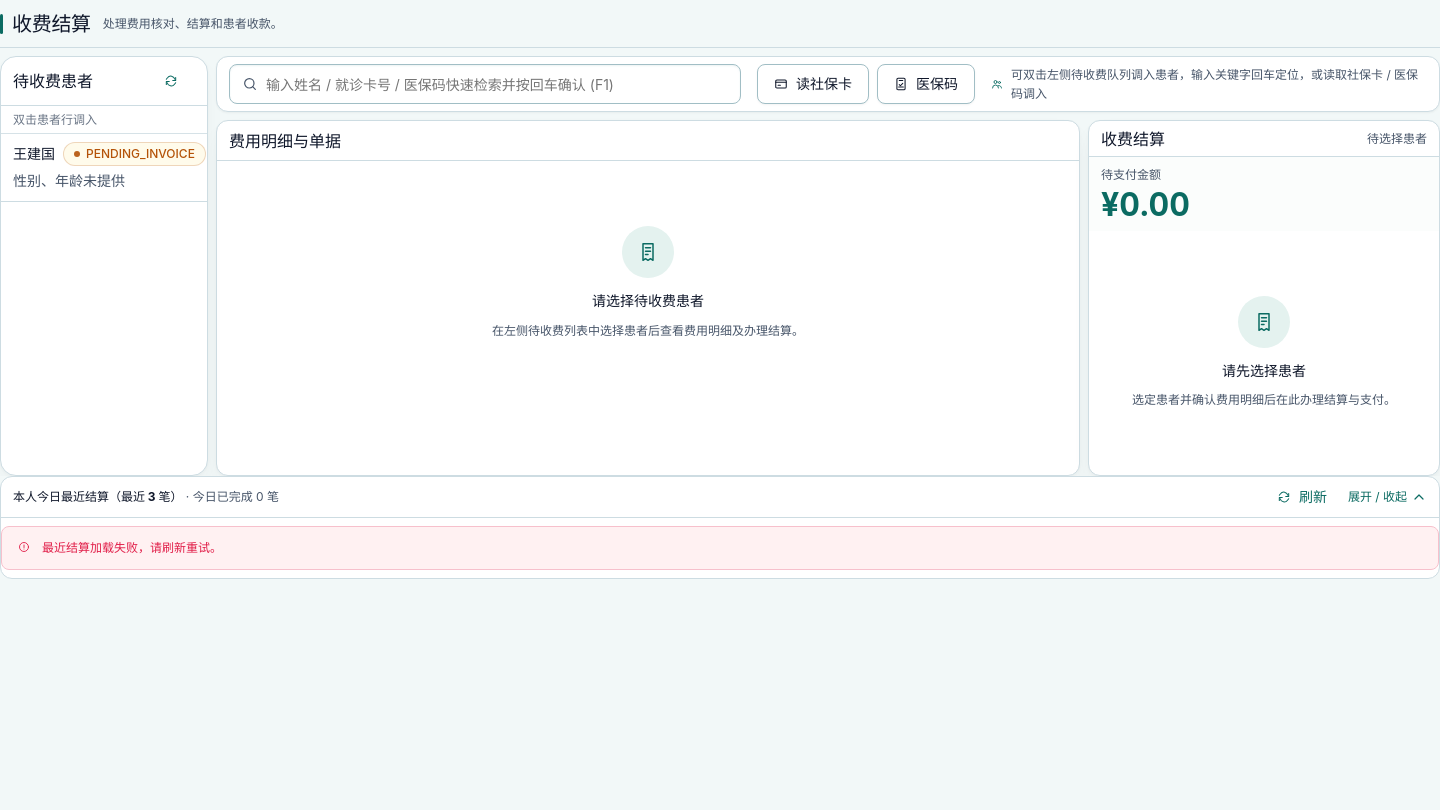
Test case: BillingWorkspace deep link › stops before collecting when pre-insurance relief lowered the amount due
The image size is (1440, 810).
Double-click the button "王建国 PENDING_INVOICE 性别、年龄未提供" at {"x": 104, "y": 168}, box left=1, top=134, right=207, bottom=202
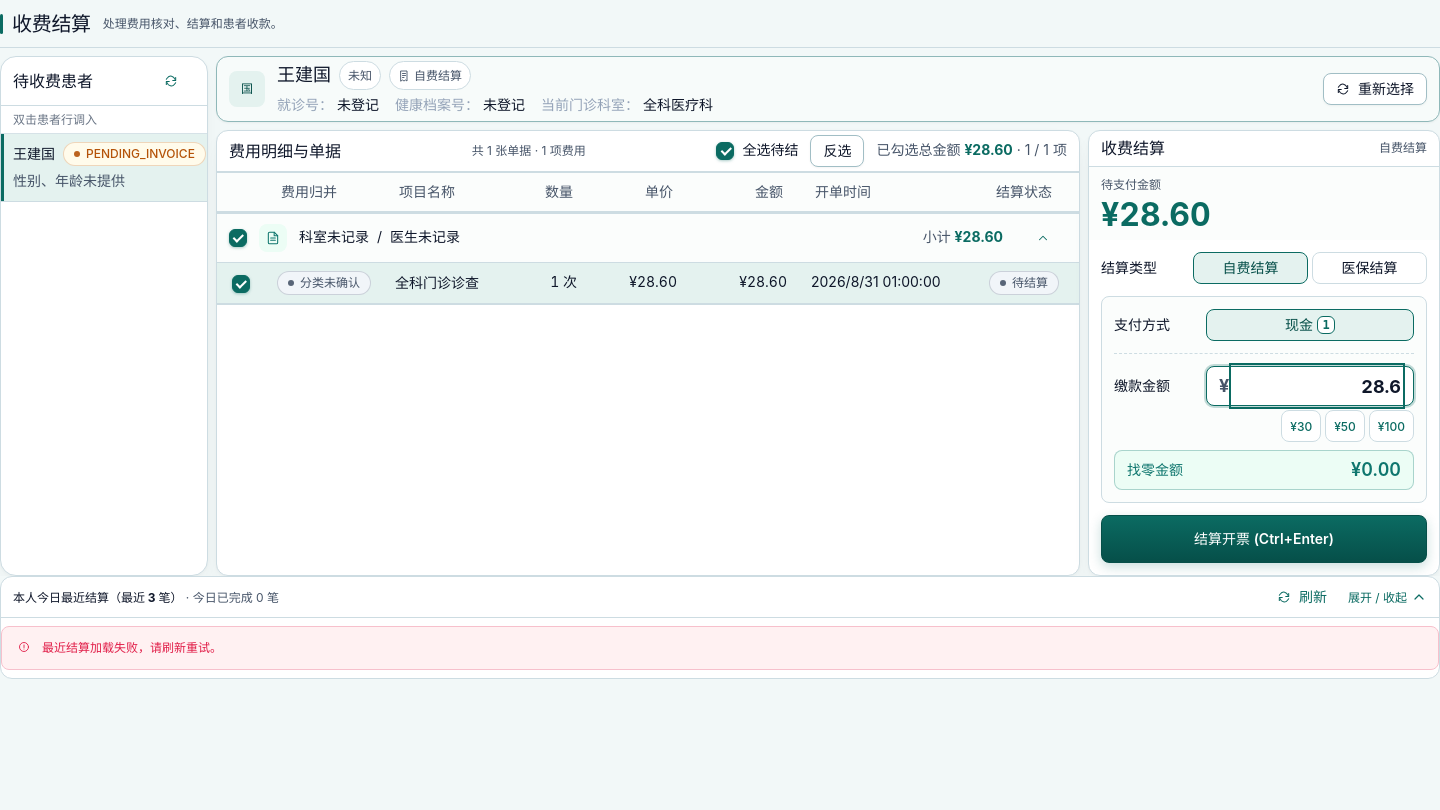
Expected: the number field with placeholder "28.6" holds "28.6", left=1233, top=367, right=1401, bottom=405
Expected: the button "结算开票 (Ctrl+Enter)" is enabled
Click the button "结算开票 (Ctrl+Enter)" at {"x": 1264, "y": 539}, box left=1101, top=515, right=1427, bottom=563
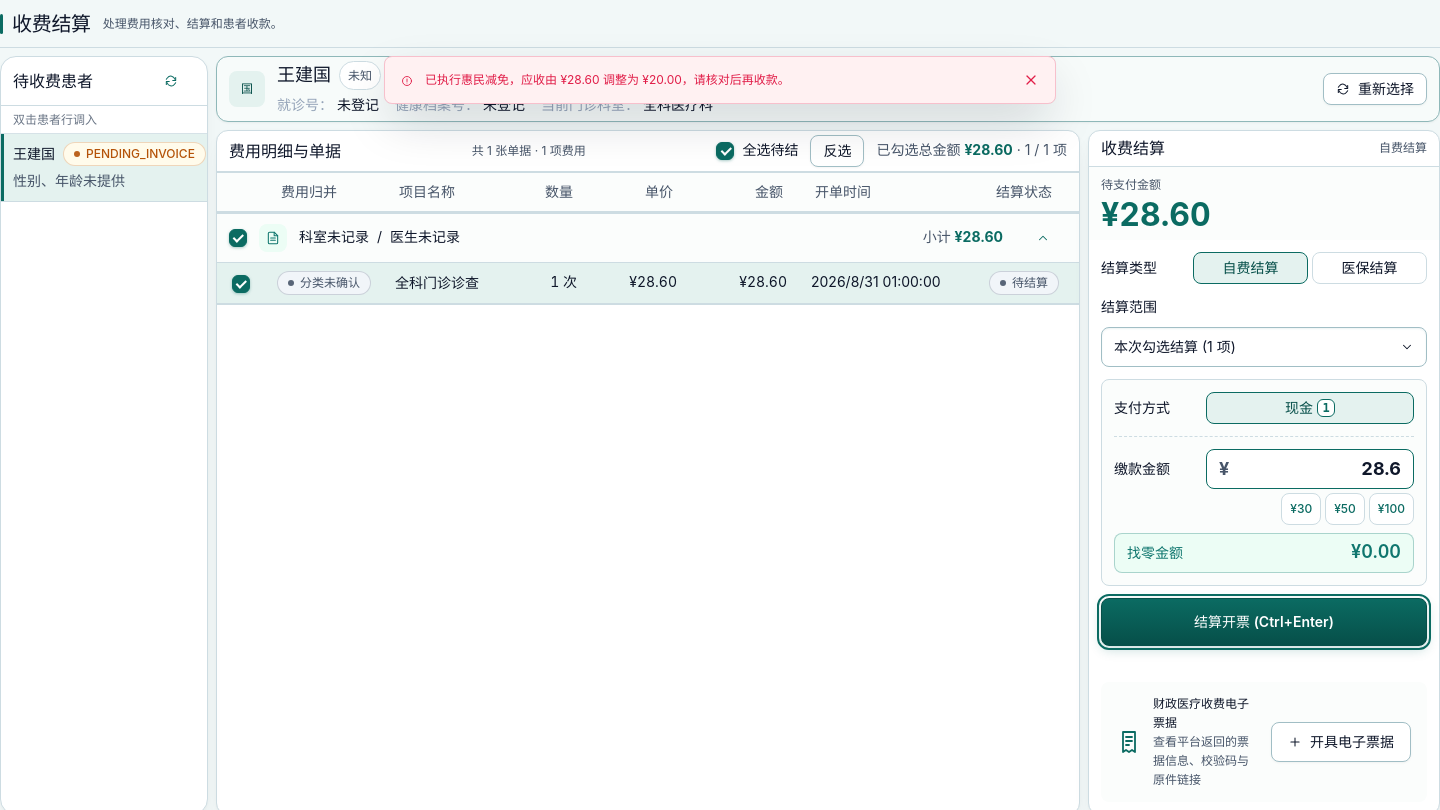
Expected: the text "已执行惠民减免，应收由 ¥28.60 调整为 ¥20.00，请核对后再收款。" is shown, left=425, top=72, right=790, bottom=87
